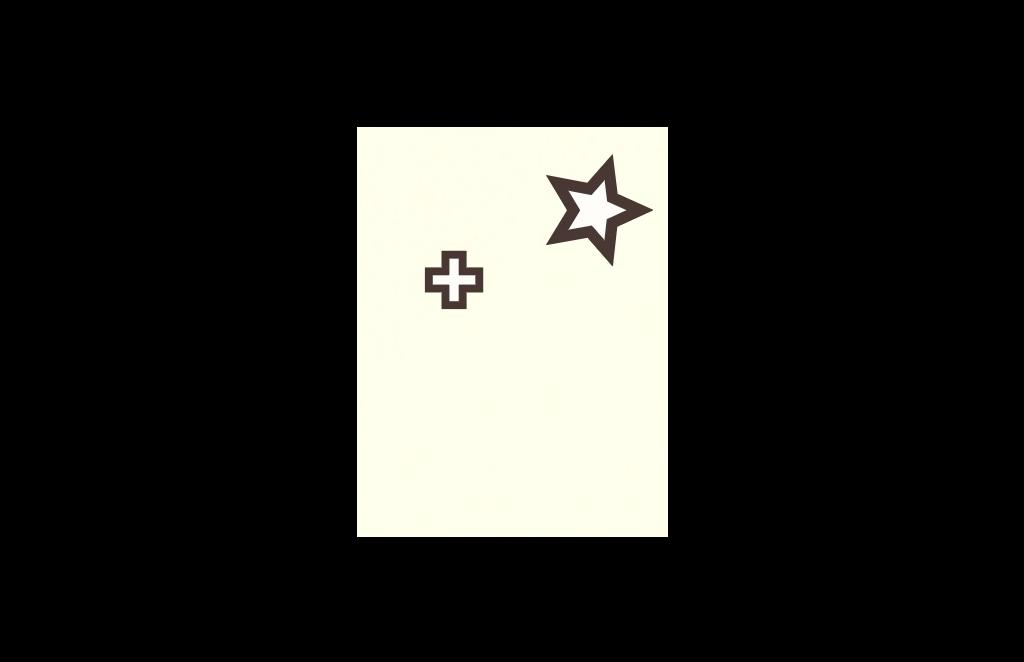unconnected_station: (534, 140, 664, 284), (410, 233, 500, 330)
